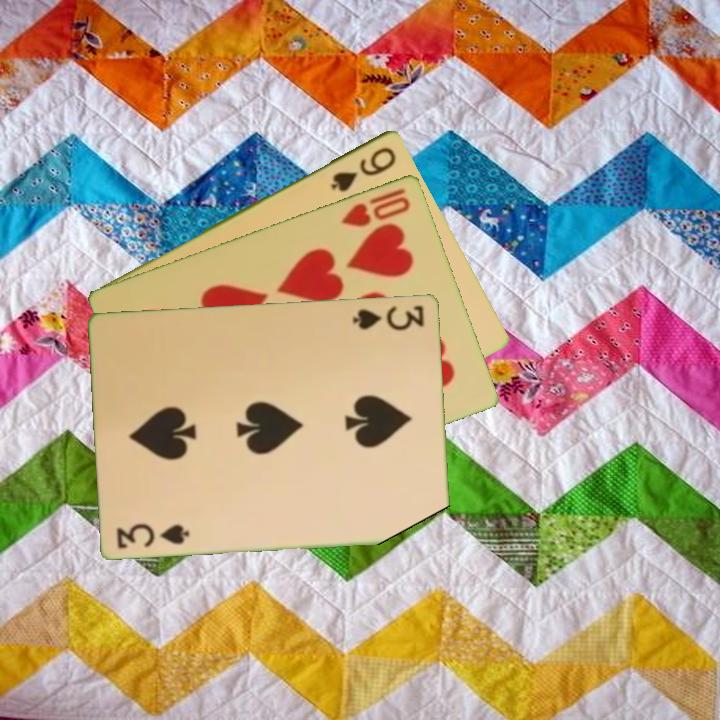10h: (337, 192, 414, 229)
3s: (113, 519, 193, 551), (349, 301, 427, 333)
9s: (327, 142, 400, 195)
